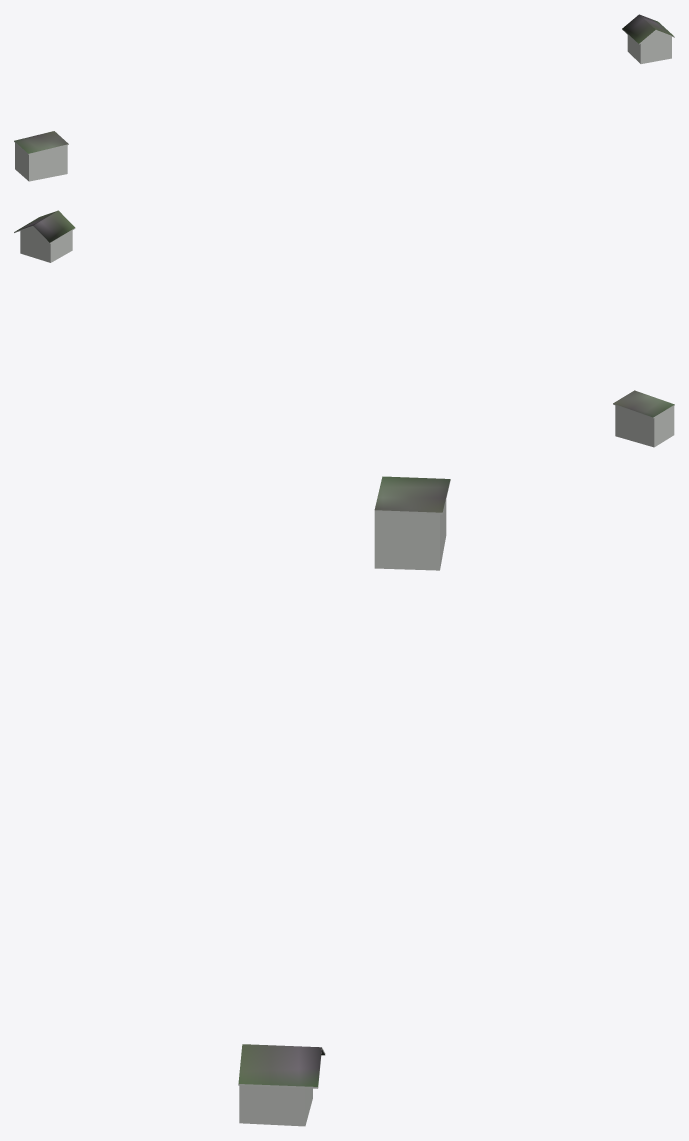
The model's file is LSMM_1_0.glb.
3 views of the same model, one above another, from view 1: azimuth 30°, elevation 25°; view 2: azimuth 150°, elevation 25°; view 3: azimuth 270°, elevation 25° (orthographic). The views are drawn at different scales.
Parts seen in each view (by area): view 1: building_423b52cb73eb0215, building_c40883147702a05b, building_46a72a8fc4793408, building_b11d3faed7d69d48; view 2: building_423b52cb73eb0215, building_c40883147702a05b, building_46a72a8fc4793408, building_b11d3faed7d69d48; view 3: building_423b52cb73eb0215, building_b11d3faed7d69d48, building_c40883147702a05b, building_46a72a8fc4793408.
Boxes of the visible parts, box(x1,y1,x2,y2) form: building_423b52cb73eb0215: box(15, 143, 67, 181); building_c40883147702a05b: box(627, 31, 671, 63); building_46a72a8fc4793408: box(14, 131, 68, 154); building_b11d3faed7d69d48: box(622, 14, 674, 44); building_423b52cb73eb0215: box(615, 405, 674, 447); building_c40883147702a05b: box(20, 227, 72, 262); building_46a72a8fc4793408: box(613, 390, 674, 418); building_b11d3faed7d69d48: box(14, 210, 75, 243); building_423b52cb73eb0215: box(374, 499, 446, 570); building_b11d3faed7d69d48: box(238, 1044, 325, 1088); building_c40883147702a05b: box(239, 1085, 312, 1126); building_46a72a8fc4793408: box(374, 476, 450, 514).
Bounding box in the file's own units: 140 × 7.23 × 20.99.
2 materials, 1 textured.
